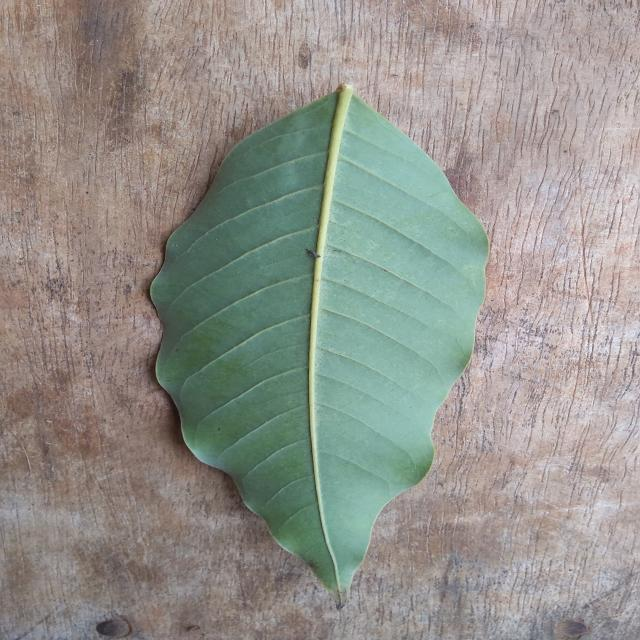sampige: (151, 85, 487, 605)
